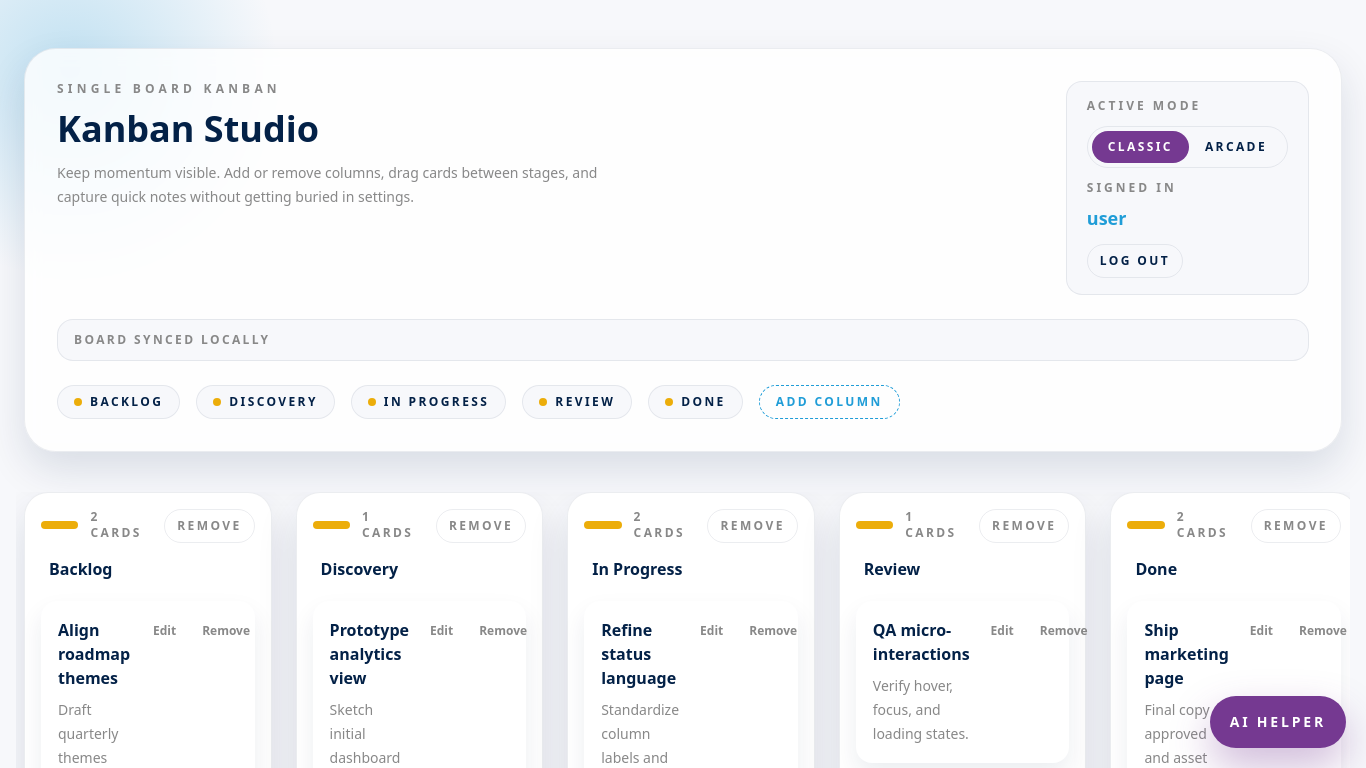
Test: AppShell › persists the selected board mode through save
Click the button "arcade" at (1236, 147), box [1189,131,1283,163]
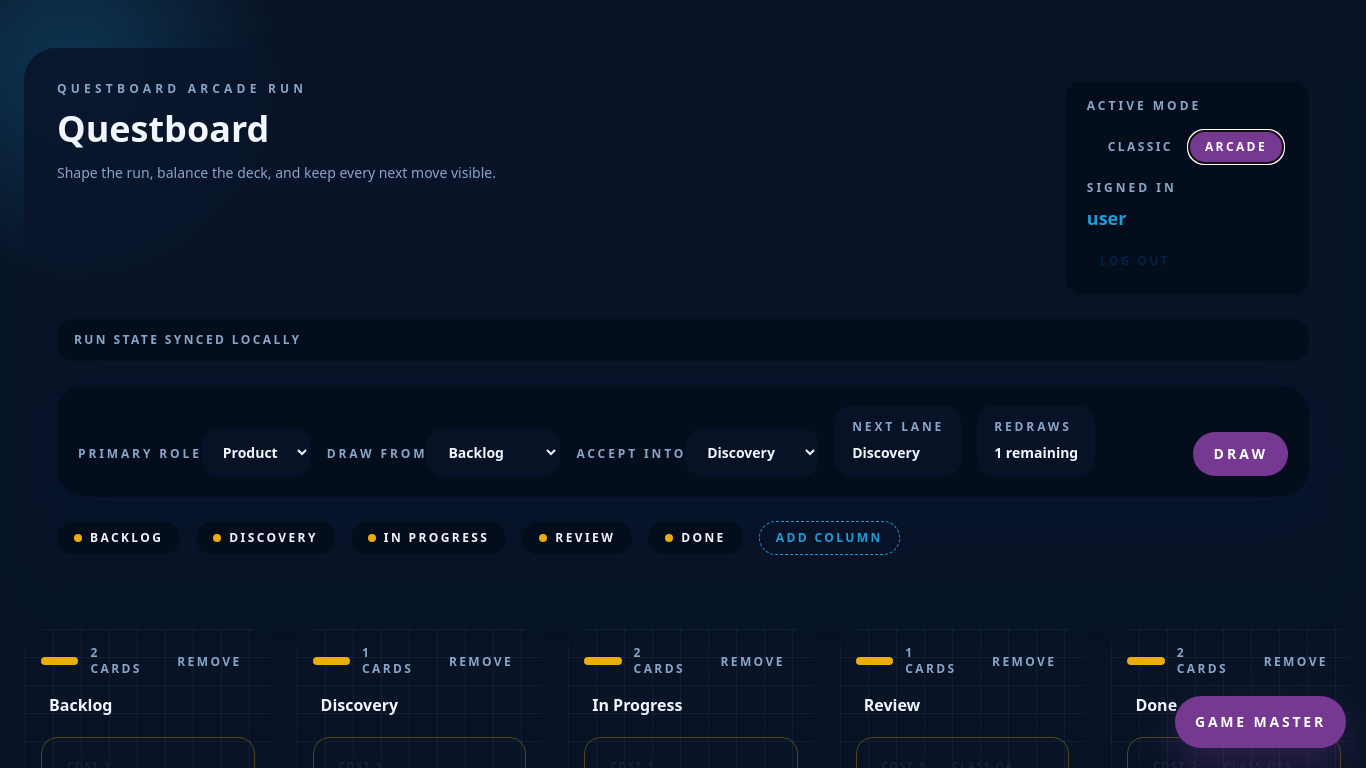
expect the heading "Questboard" is shown: met, box [57,104,269,153]
expect the button "Game Master" is shown: met, box [1175,696,1346,748]
